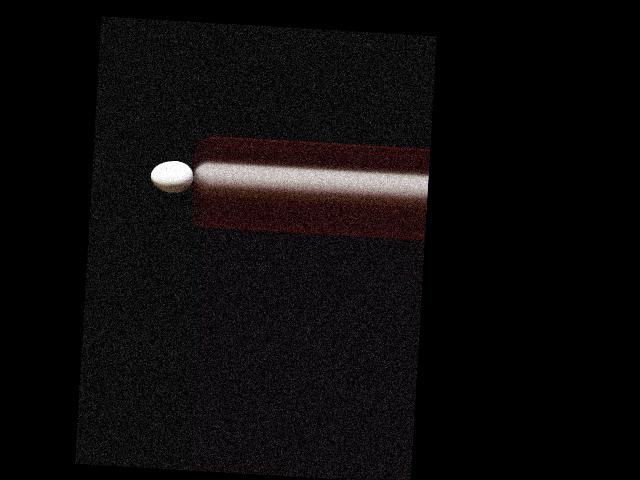egg: (150, 159, 194, 193)
